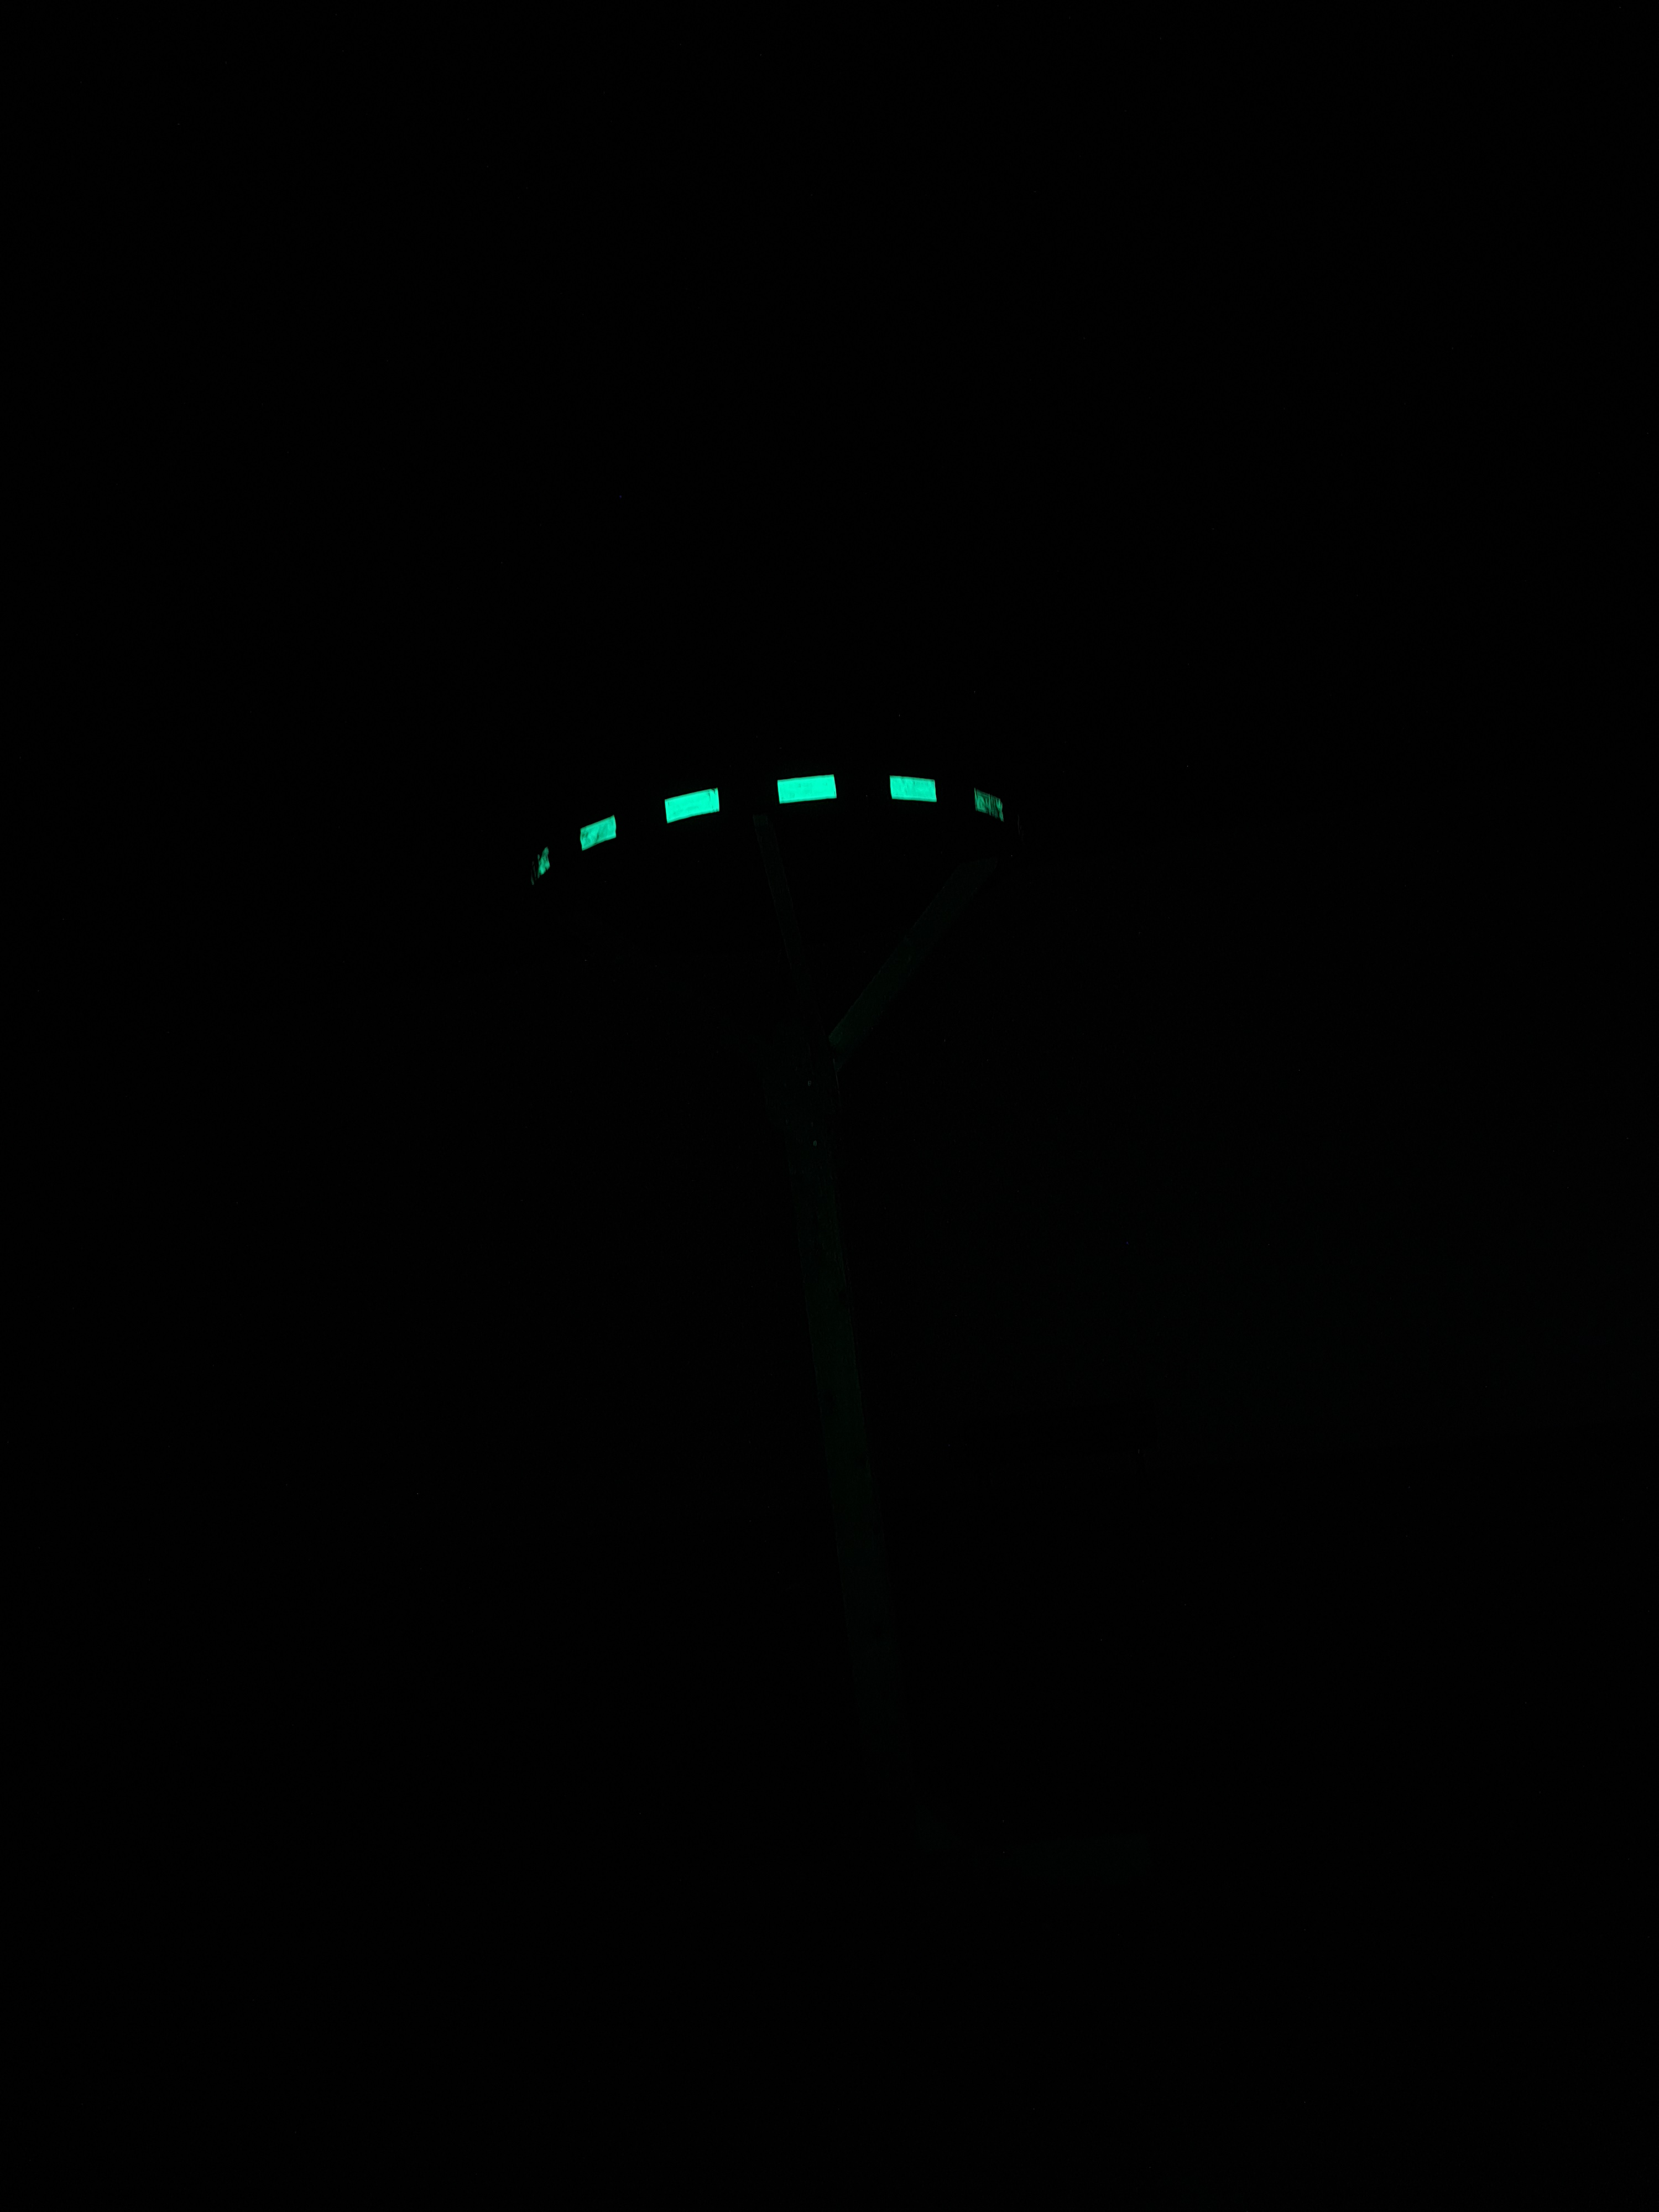hoop: (528, 775, 1006, 899)
